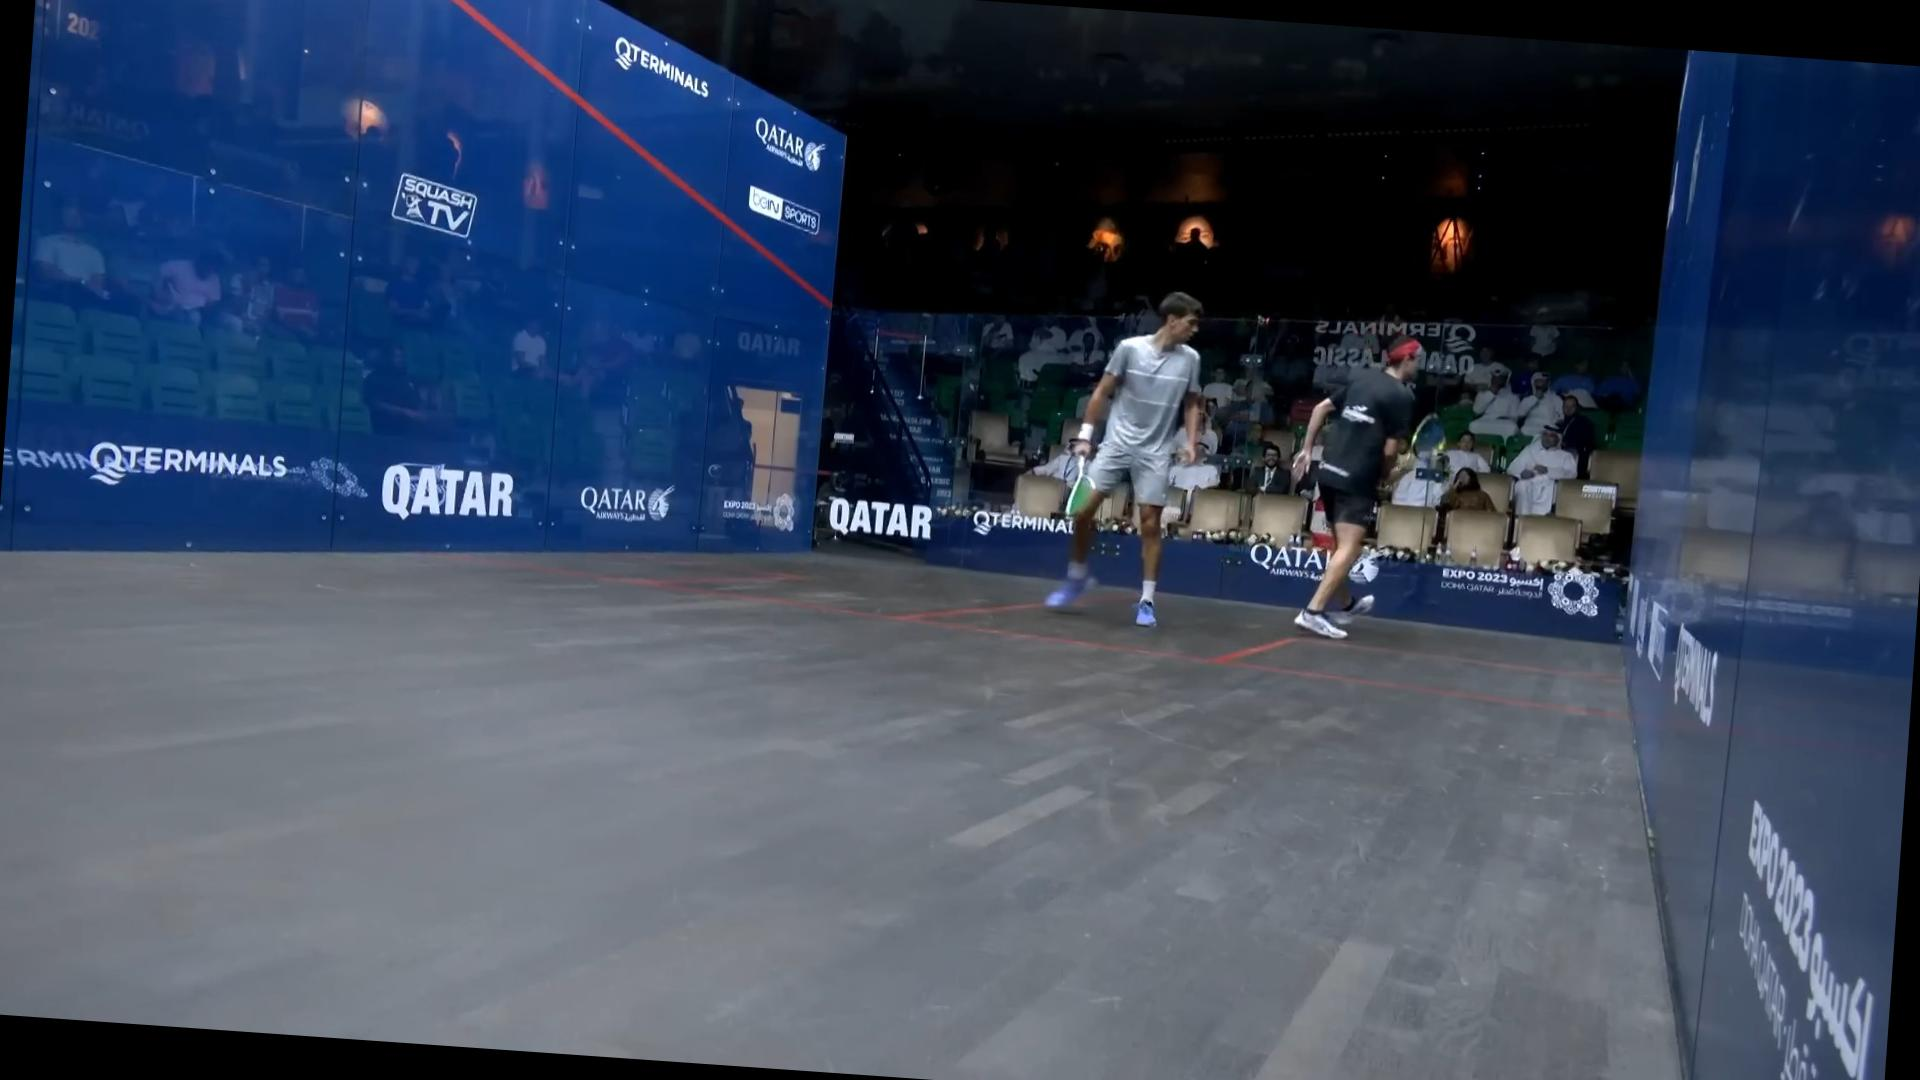Racket: (1393, 406, 1458, 475), (1058, 449, 1104, 526)
